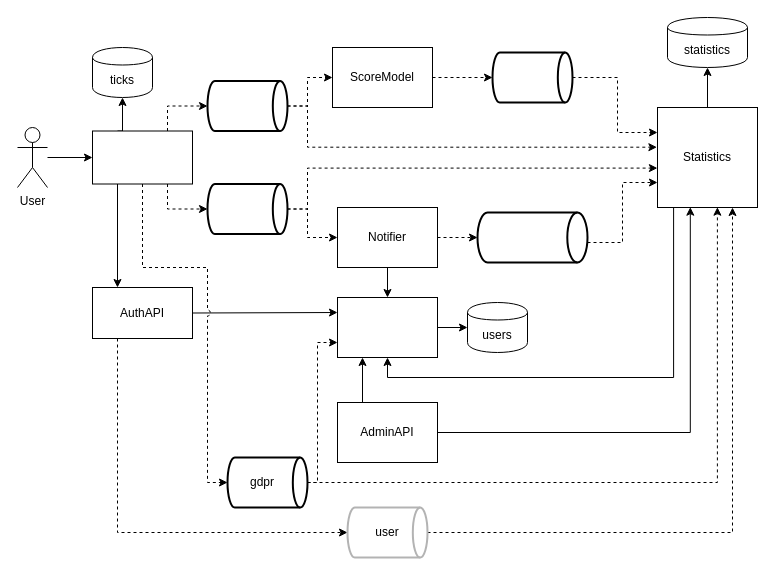
The diagram is 775 pixels wide and 576 high, and some of its shapes have lost their labels. The centre of each missing label's shape, as x and y in pixels:
notification: [532,237]
rate: [247,208]
score: [532,77]
tick: [247,106]
TickAPI: [142,157]
UserAPI: [387,327]
